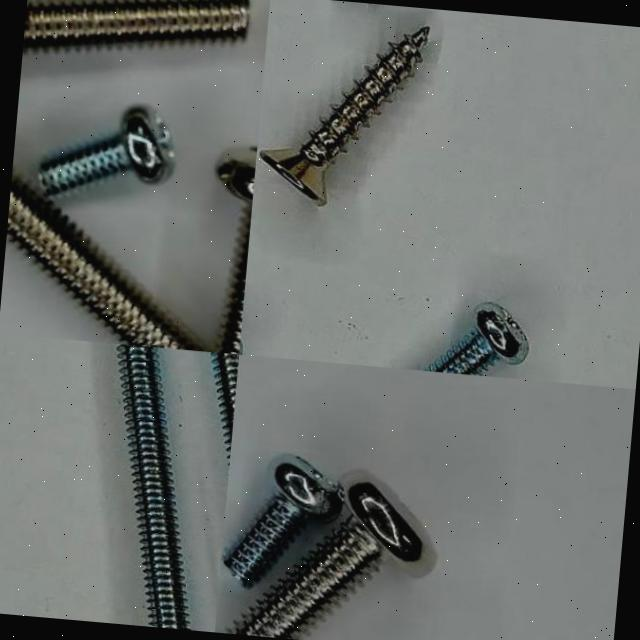Screw: (6, 182, 195, 350), (228, 481, 422, 639), (258, 25, 428, 205), (115, 343, 186, 630), (223, 456, 342, 587), (36, 108, 174, 193), (22, 0, 249, 50), (216, 148, 257, 354), (424, 303, 527, 375)
